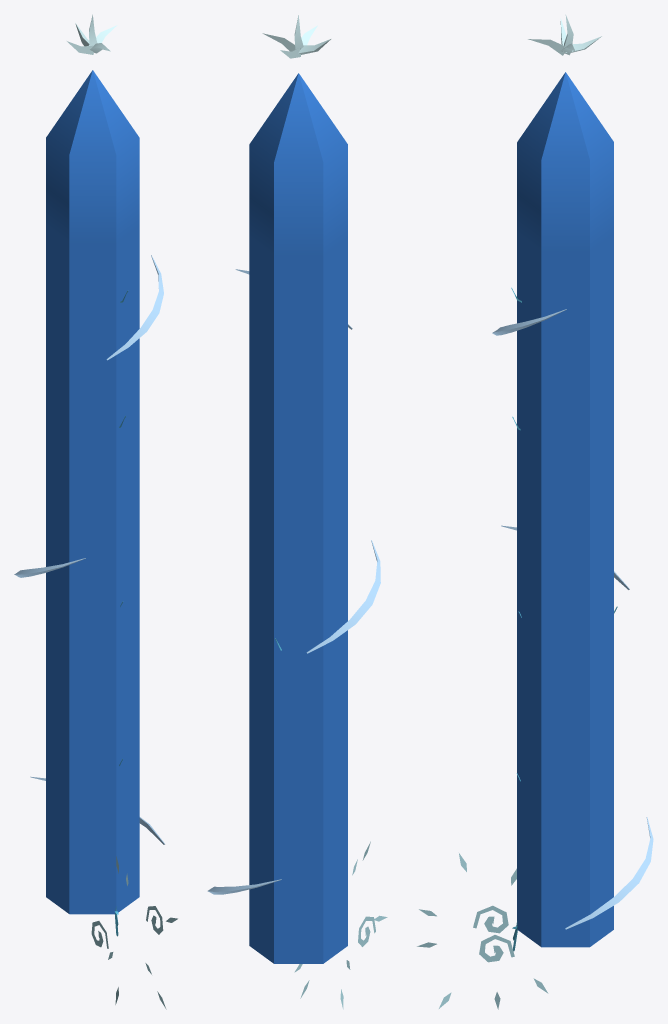
File: rodfx-tempest.glb
3 renders of one model, left to right at view 1: azimuth 30°, elevation 25°; view 2: azimuth 150°, elevation 25°; view 3: azimuth 270°, elevation 25°, orthographic. The views are drawn at different scales.
Parts seen in each view (by area): view 1: Aura, Gust, Eye, Spark; view 2: Aura, Gust, Spark, Eye; view 3: Aura, Eye, Gust, Spark.
Part boxes in pixels (x1,y1,x2,y2): Aura: (46, 70, 139, 914); Gust: (14, 255, 164, 844); Eye: (91, 856, 177, 1009); Spark: (67, 14, 117, 54); Aura: (249, 73, 347, 963); Gust: (207, 269, 380, 894); Spark: (262, 15, 330, 58); Eye: (294, 841, 387, 1009); Aura: (517, 72, 613, 947); Eye: (417, 853, 548, 1009); Gust: (492, 309, 653, 929); Spark: (528, 14, 601, 55).
Bounding box in the file's own units: 0.1597 × 1.04 × 0.2225.
